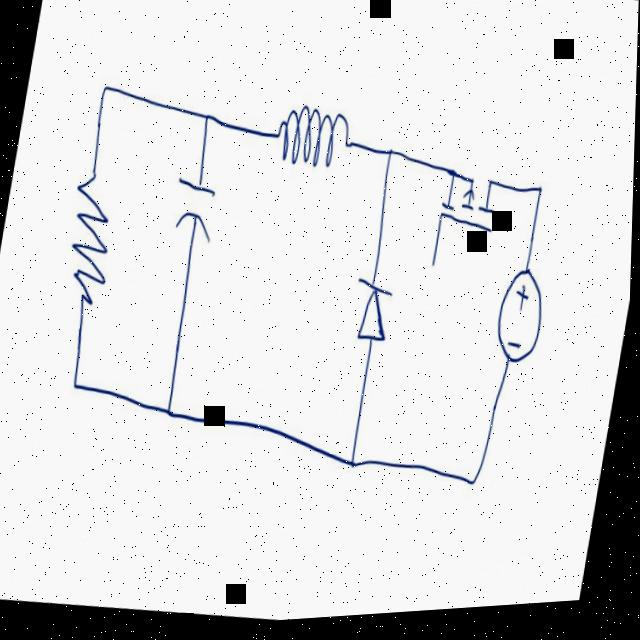capacitor: (159, 152, 231, 276)
diode: (334, 271, 408, 369)
inductor: (262, 86, 369, 193)
mosfet: (419, 146, 520, 293)
resistor: (54, 146, 131, 328)
source: (485, 254, 559, 393)
